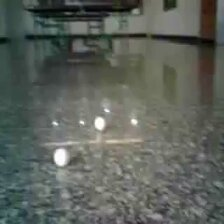w: (53, 147, 68, 167), (94, 117, 106, 132)
